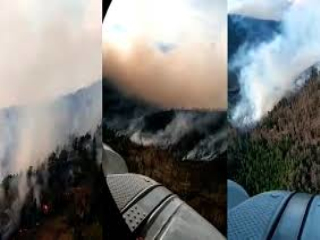smoke: (233, 9, 315, 137), (5, 87, 73, 227), (110, 82, 223, 163)
